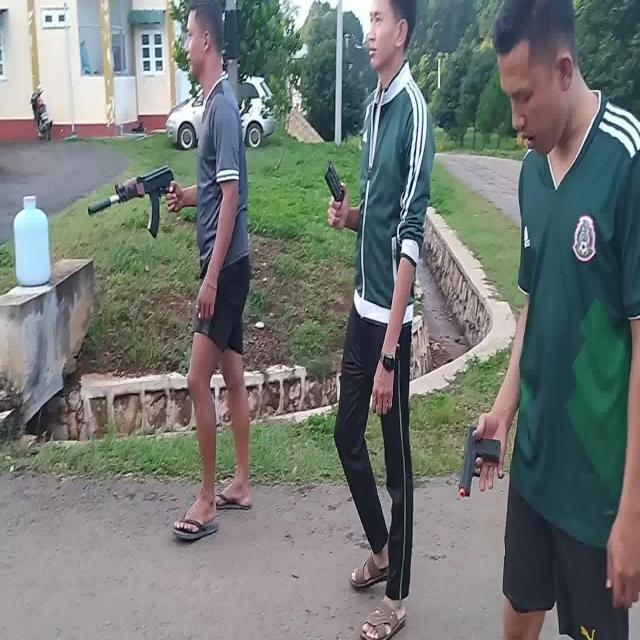gun: (87, 167, 181, 237), (459, 425, 501, 495)
